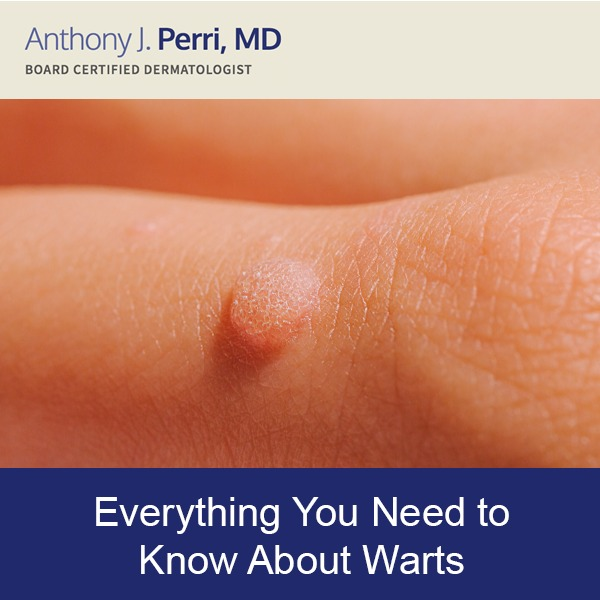Warts: (197, 233, 347, 376)
